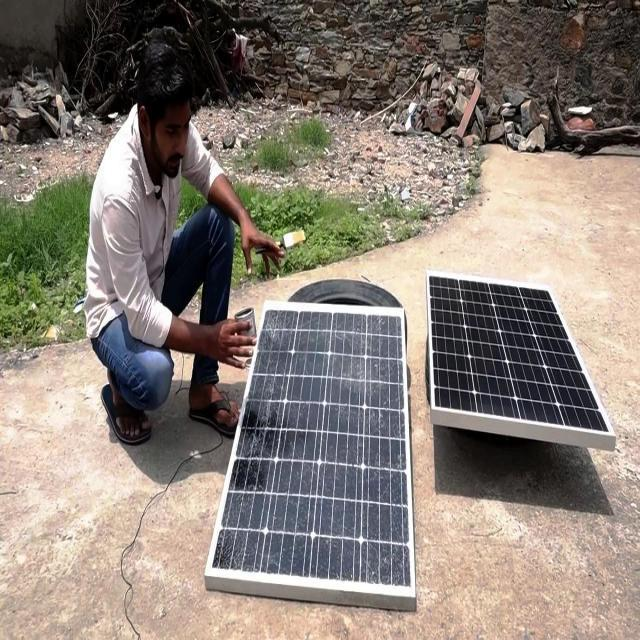faulty: (210, 301, 417, 596)
no faulty: (425, 265, 615, 448)
